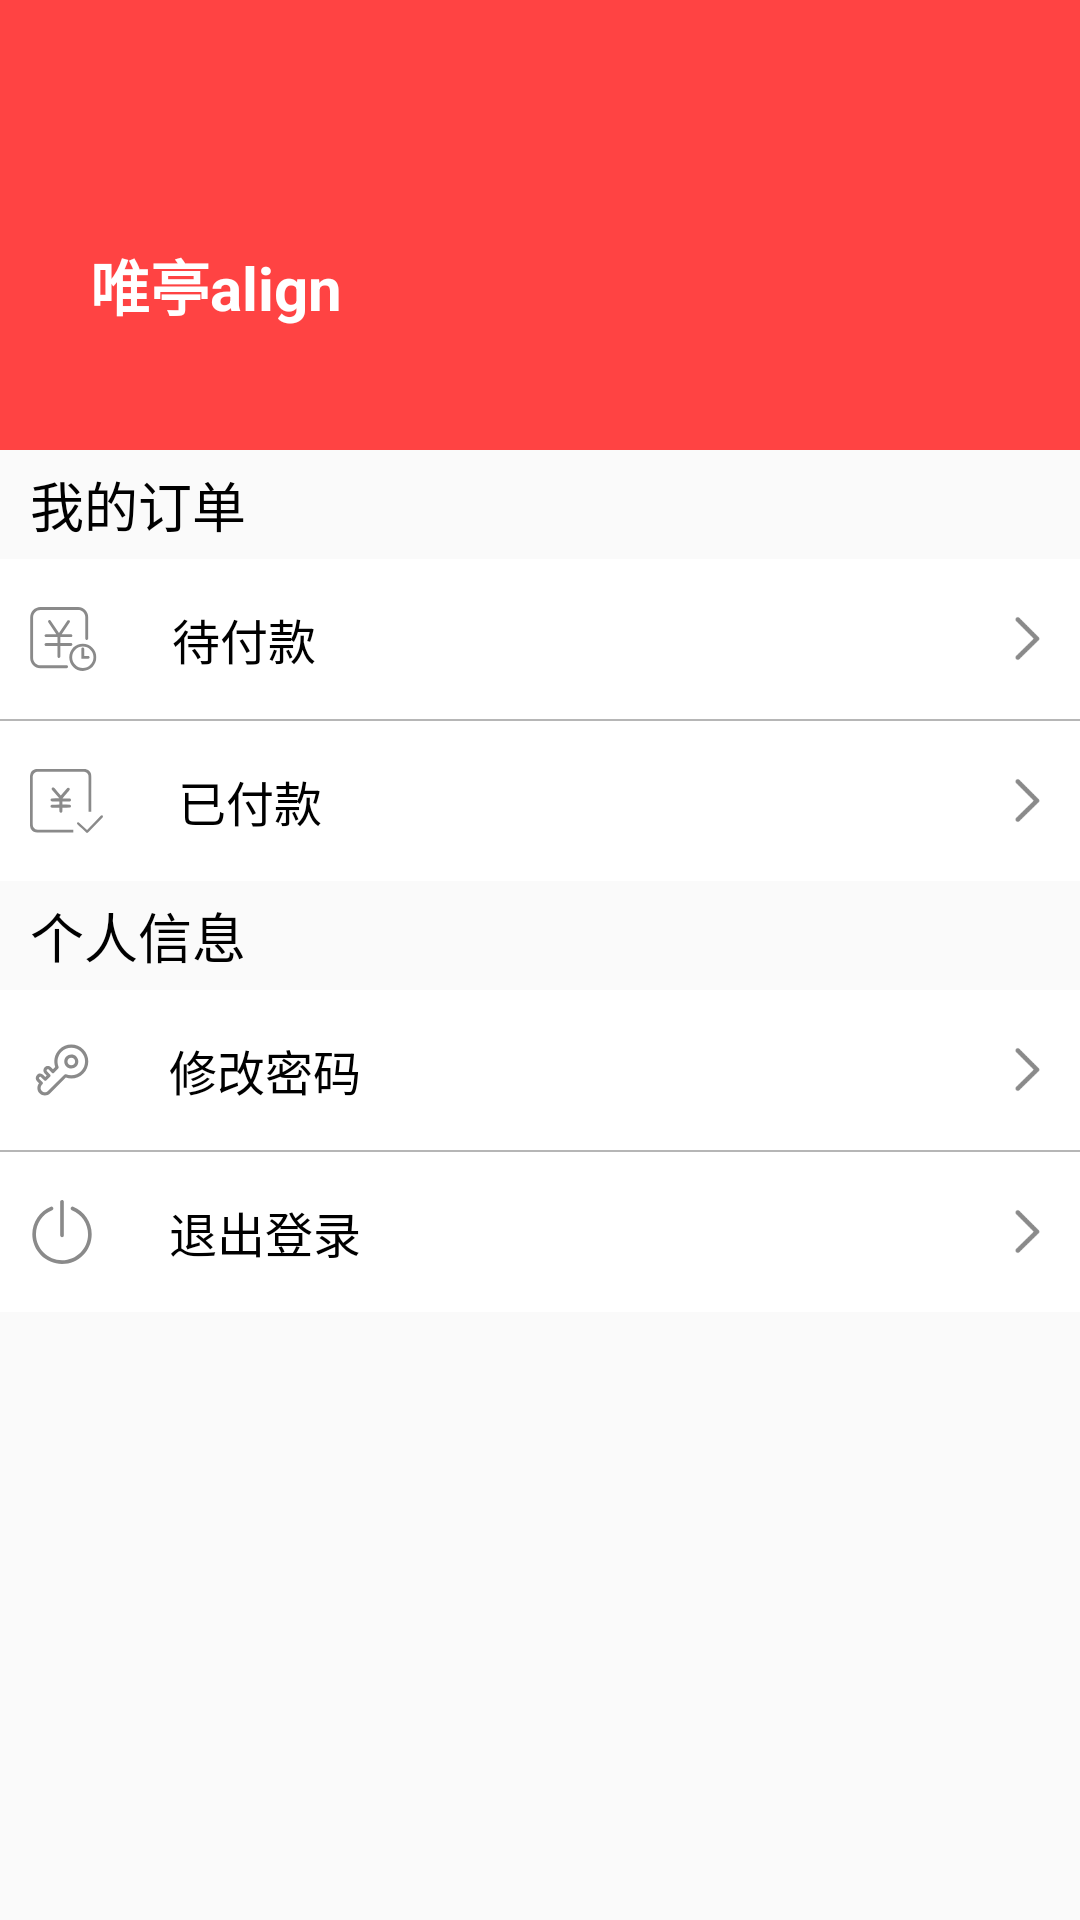

Icon click points for this 1080 × 1920 phone screenshot, format point (x, y):
changepass: point (62, 1070)
ispayment: point (66, 801)
nextep: point (1027, 638), point (1027, 800), point (1027, 1069), point (1027, 1231)
out: point (62, 1232)
waitpayment: point (63, 639)
